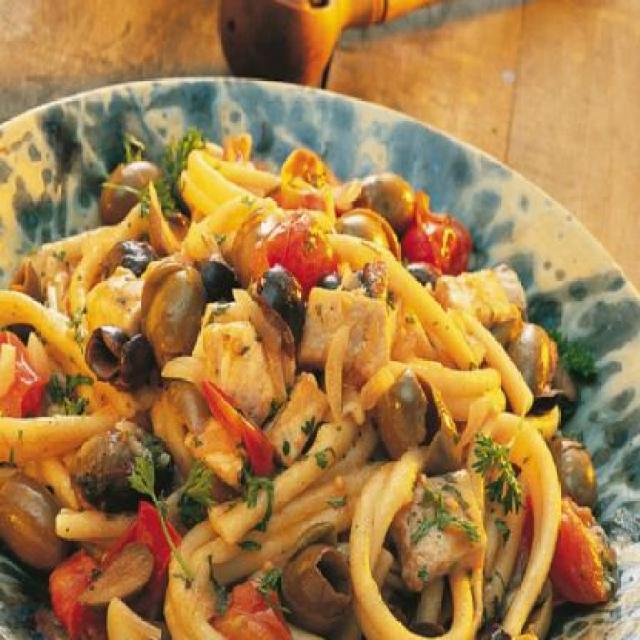Pasta al ragu: (2, 118, 628, 634)
